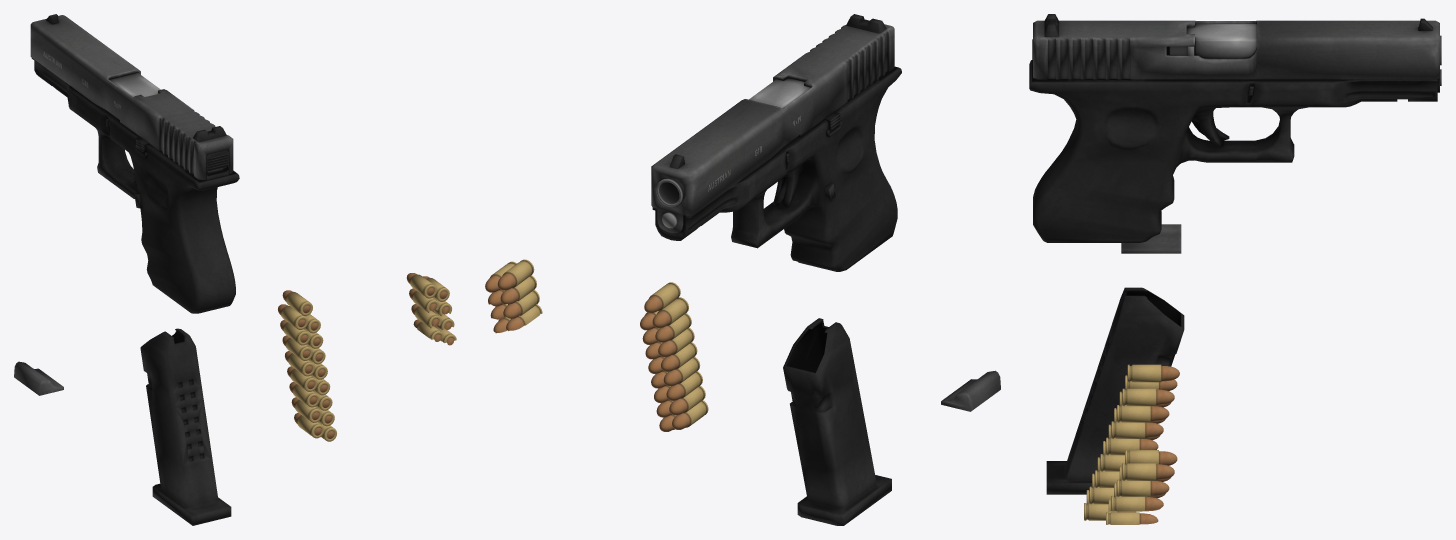
Rendered from g18_pistol.glb.
The picture shows the model from 3 angles, left to right: view 1: azimuth 30°, elevation 25°; view 2: azimuth 150°, elevation 25°; view 3: azimuth 270°, elevation 25°; orthographic projection. The views are drawn at different scales.
Parts seen in each view (by area): view 1: copyright ban 18, object 3, object 4; view 2: copyright ban 18, object 3, object 4, object 1; view 3: copyright ban 18, object 3, object 4, object 1.
Boxes of the visible parts, left/top/right/bottom form: copyright ban 18: left=14, top=14, right=239, bottom=525; object 3: left=278, top=304, right=336, bottom=441; object 4: left=406, top=273, right=456, bottom=345; copyright ban 18: left=651, top=14, right=1000, bottom=525; object 3: left=640, top=297, right=708, bottom=431; object 4: left=485, top=259, right=542, bottom=333; object 1: left=644, top=282, right=680, bottom=313; copyright ban 18: left=1029, top=14, right=1441, bottom=494; object 3: left=1084, top=375, right=1177, bottom=520; object 4: left=1106, top=450, right=1177, bottom=524; object 1: left=1127, top=364, right=1179, bottom=382.
Bounding box in the file's own units: 0.319 × 0.289 × 0.2334.
Materials: 2 (2 with a texture image).
